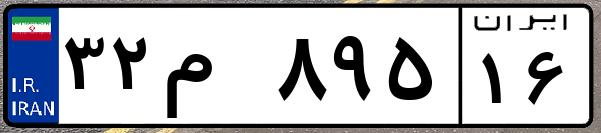1: (475, 38, 525, 113)
2: (110, 28, 158, 98)
3: (57, 26, 110, 100)
5: (385, 28, 445, 110)
6: (525, 38, 570, 115)
8: (270, 28, 330, 110)
9: (330, 28, 385, 110)
م: (158, 20, 270, 120)
